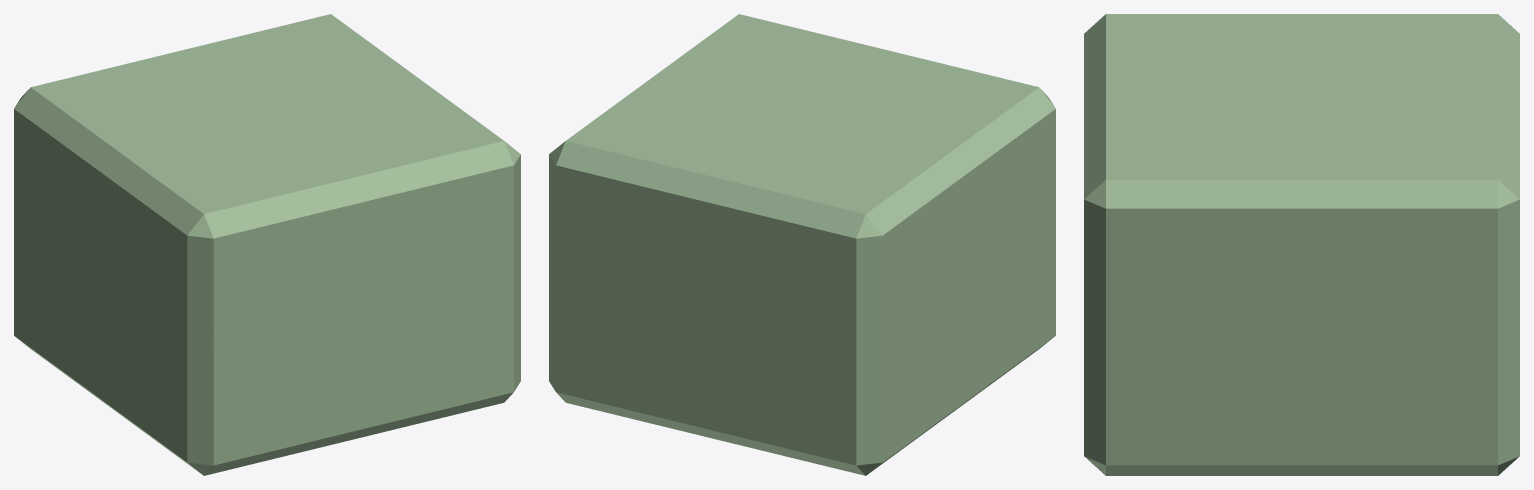
The model's file is border_block.glb.
The picture shows the model from 3 angles, left to right: view 1: azimuth 30°, elevation 25°; view 2: azimuth 150°, elevation 25°; view 3: azimuth 270°, elevation 25°; orthographic projection. The views are drawn at different scales.
Visible parts, largest first — view 1: Block; view 2: Block; view 3: Block.
Boxes of the visible parts, x1,y1,x2,y2 form: Block: [14, 14, 520, 475]; Block: [549, 14, 1055, 475]; Block: [1084, 14, 1519, 475].
Size of the model in its own units: 2 by 1.5 by 2.
